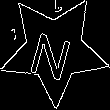N_N: (29, 20, 80, 80)
